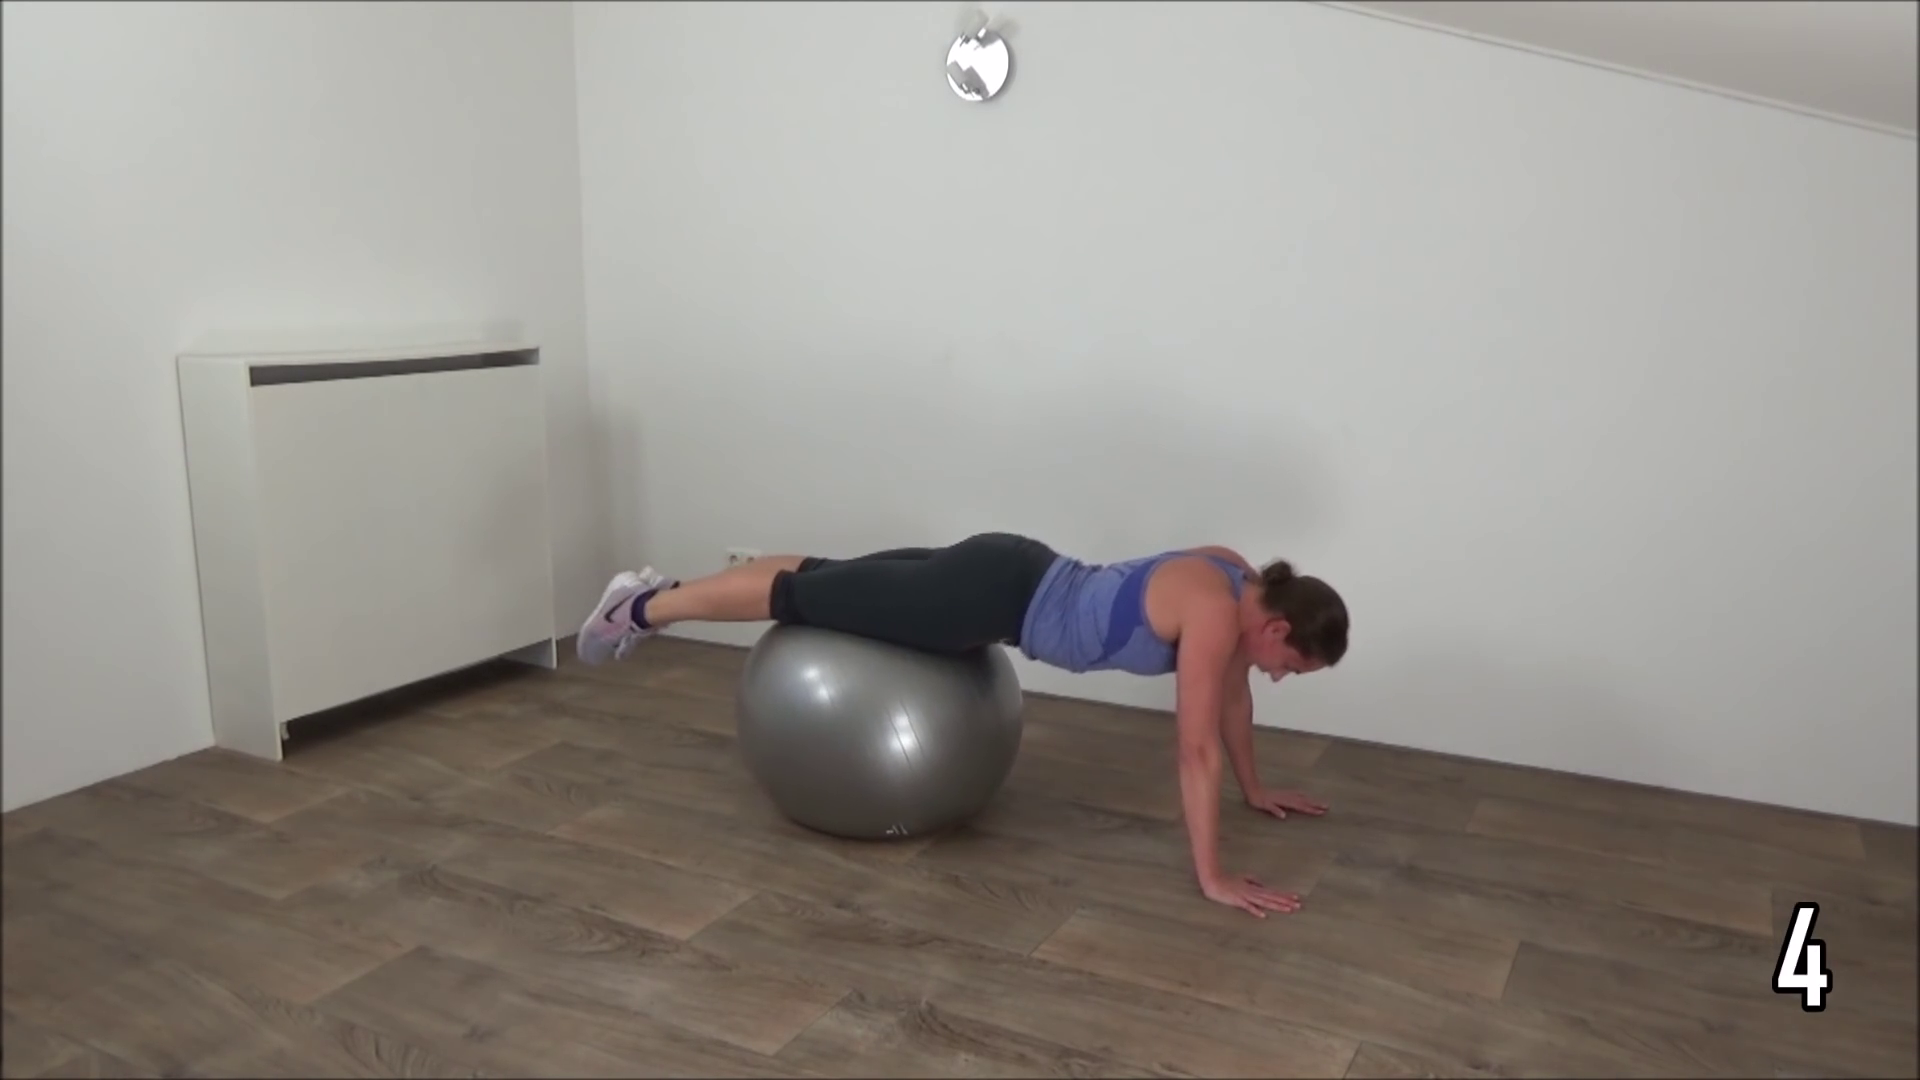yogaball: (711, 587, 1043, 857)
